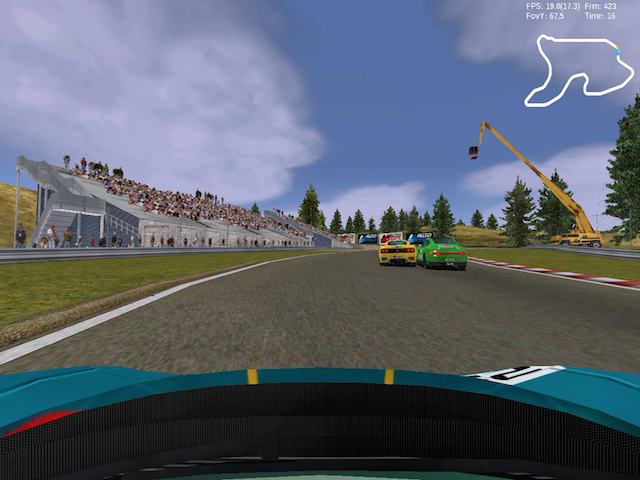Boxer96: (416, 237, 468, 271)
Cavallo360: (379, 240, 418, 267)
